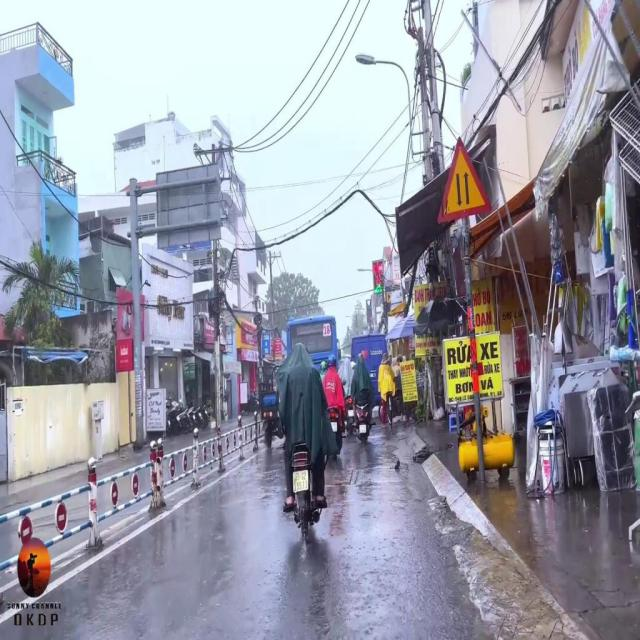khac: (438, 136, 492, 221)
